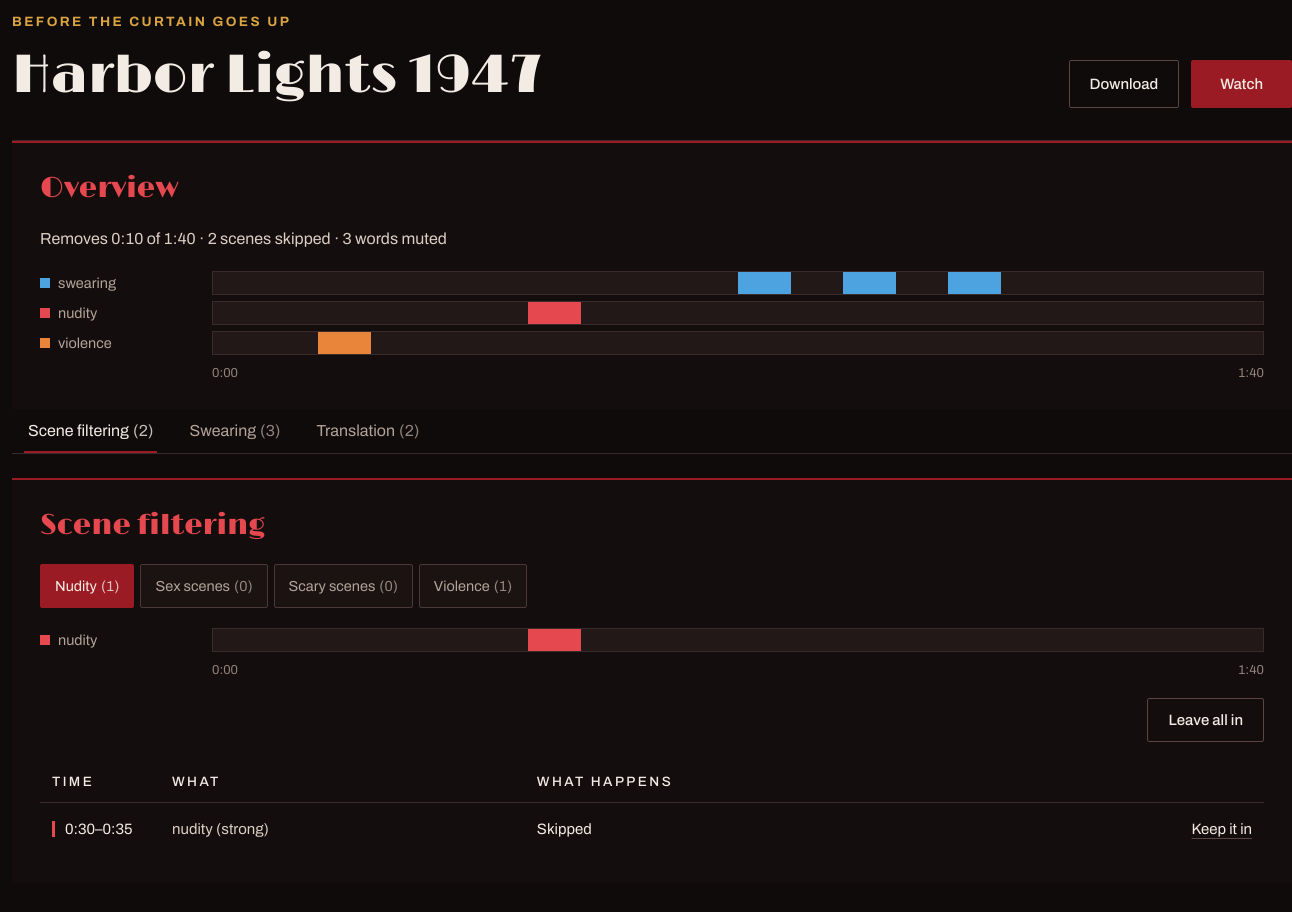
Test: ReviewPage tabs › says when a kind of scene was never scanned for
What coordinates should you click on to do the following:
click the tab "Sex scenes (0)"
I would click on:
 (204, 586)
Its box is [140, 564, 268, 608].
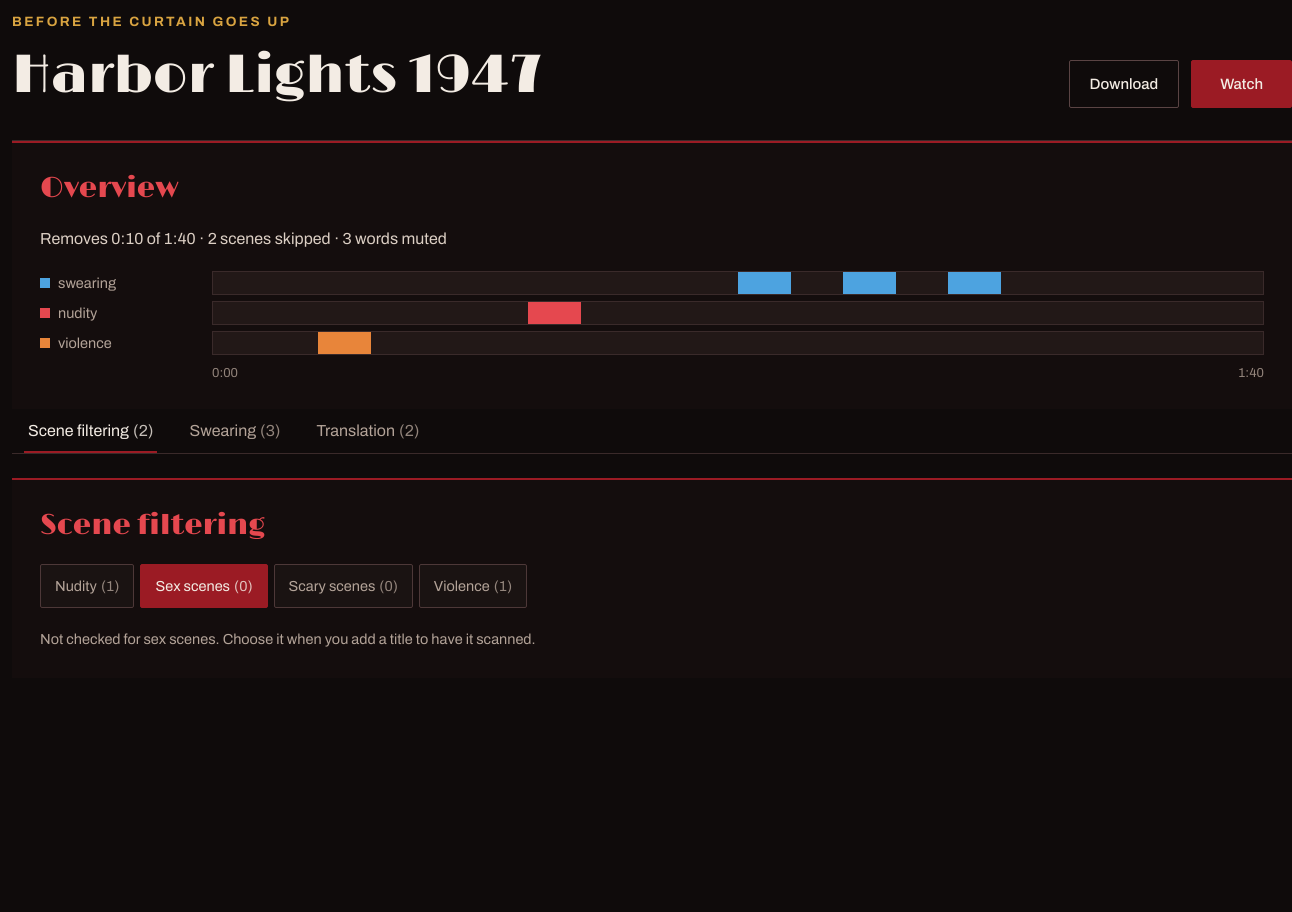
Expected: the text "Not checked for sex scenes" is shown, [40, 631, 536, 647]
